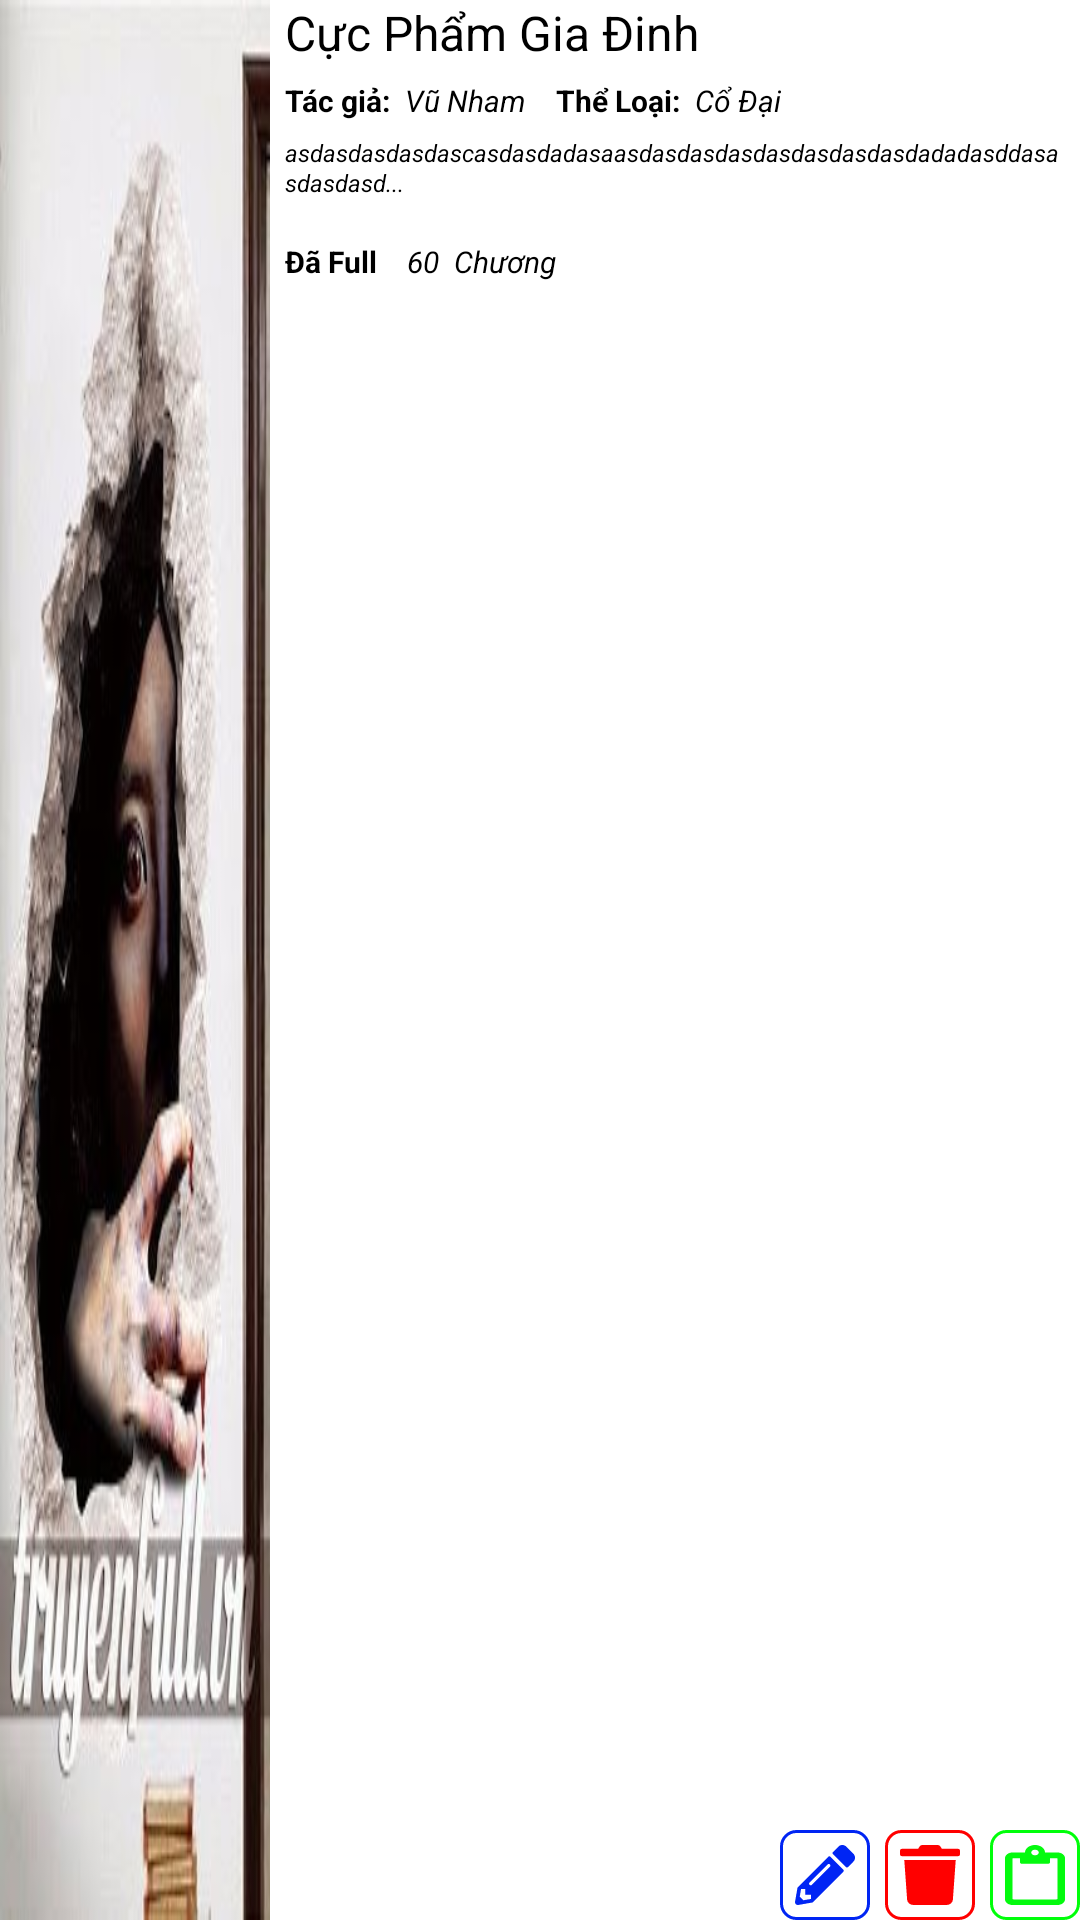

Named icons in this screenshot (1080*1920) and their centers, (x=x, y=y):
clipboard: (x=1035, y=1875)
iconupdatetruyen: (x=825, y=1875)
trash: (x=930, y=1875)
